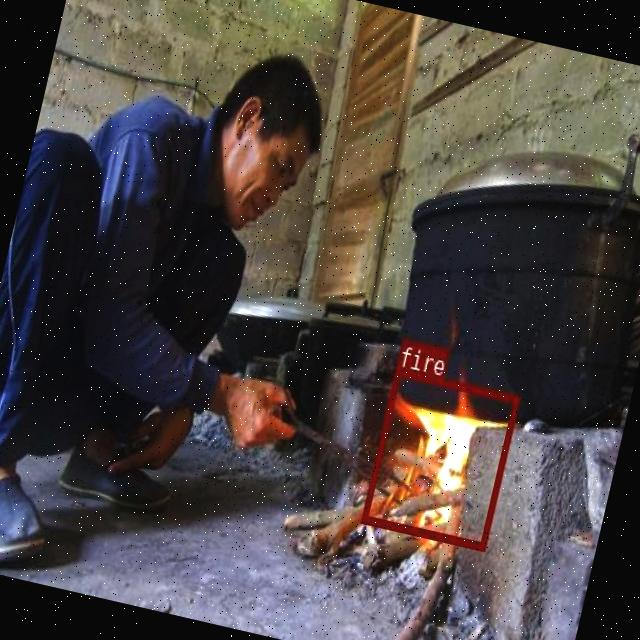fire: (359, 366, 520, 550)
